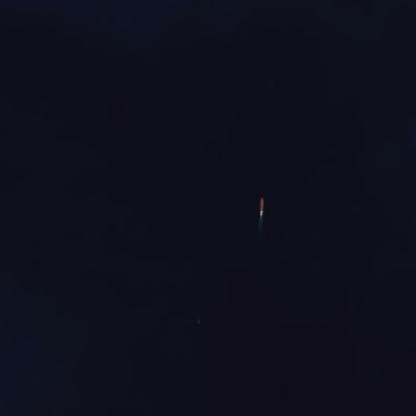ship: (257, 28, 265, 52)
